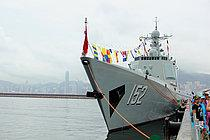MIL_Ship: (79, 21, 190, 126)
